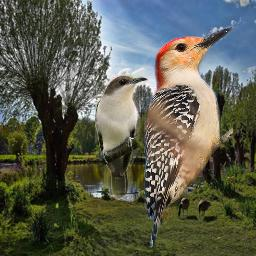Cuckoo: (95, 75, 148, 201)
Woodpecker: (144, 25, 233, 248)
